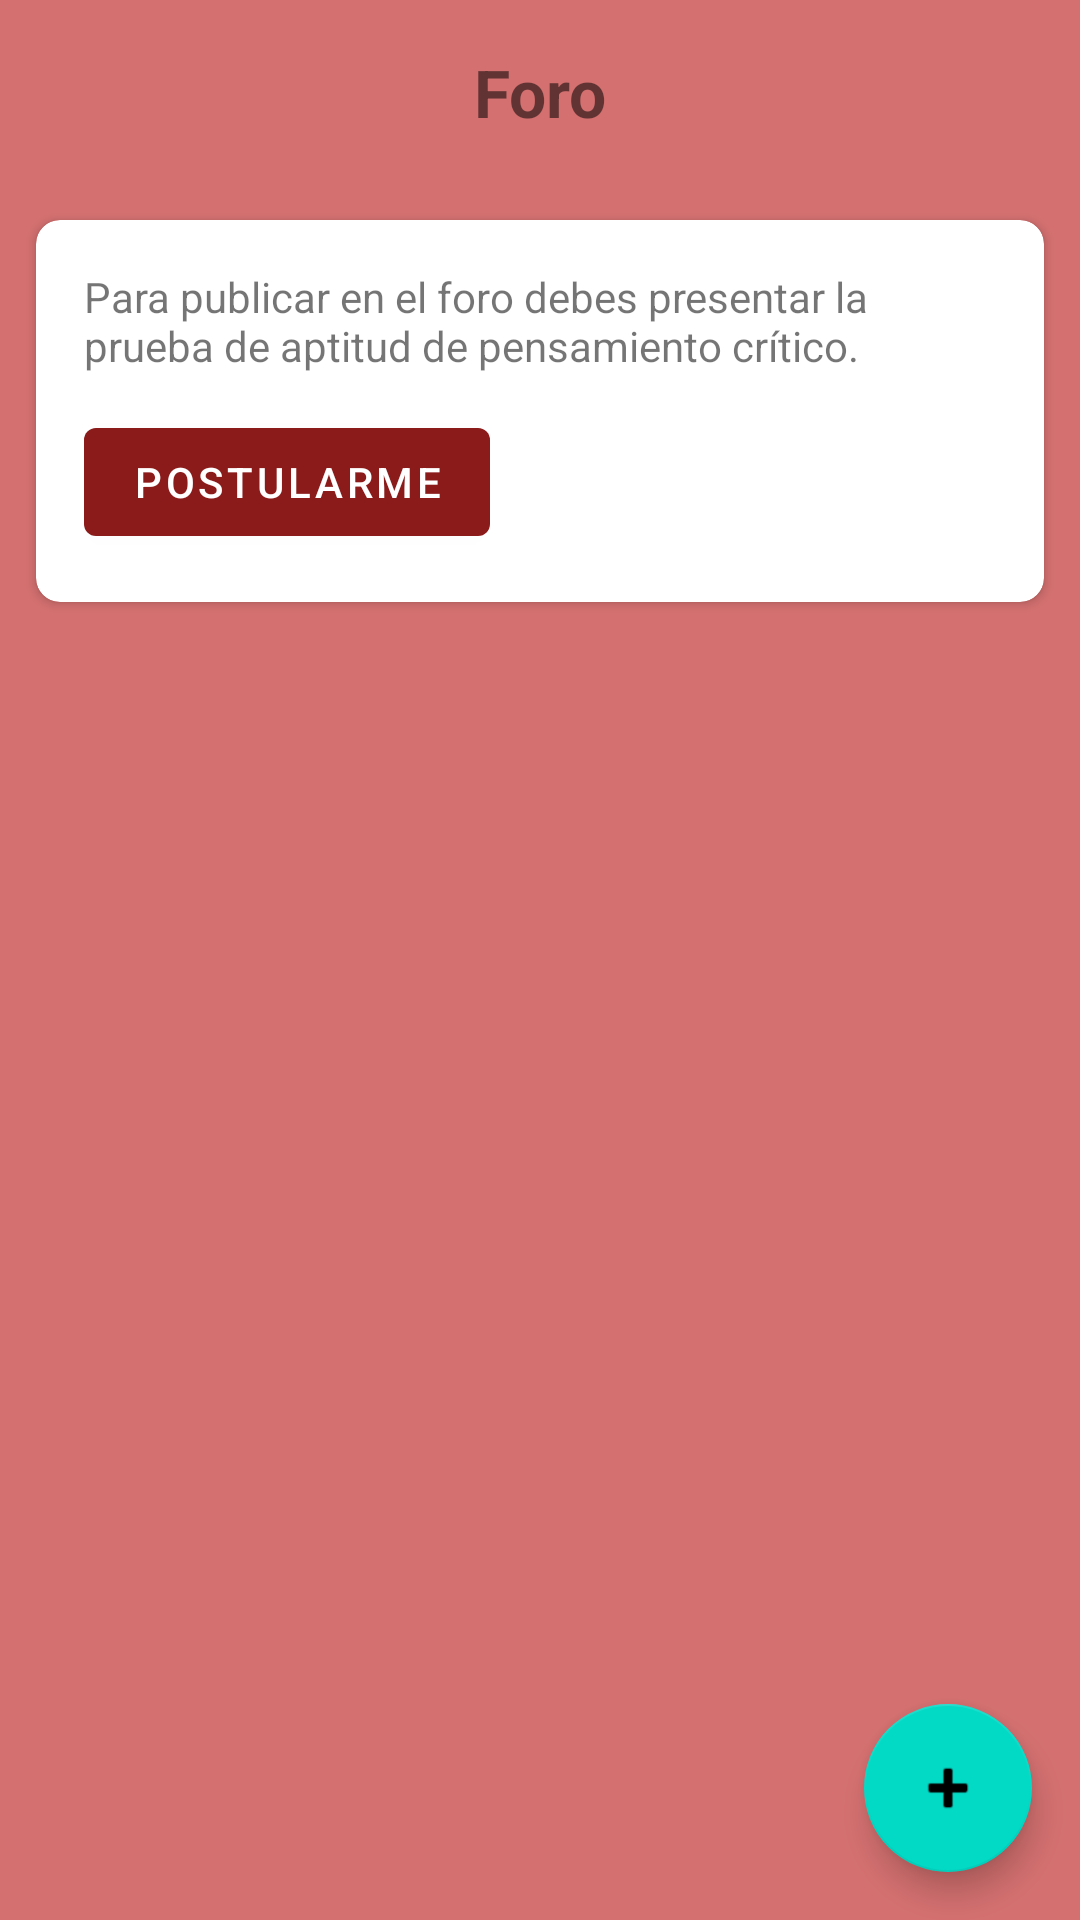

Named icons in this screenshot (1080w x 1920h) and their centers, (x,y):
Publicar en el foro: (948,1788)
